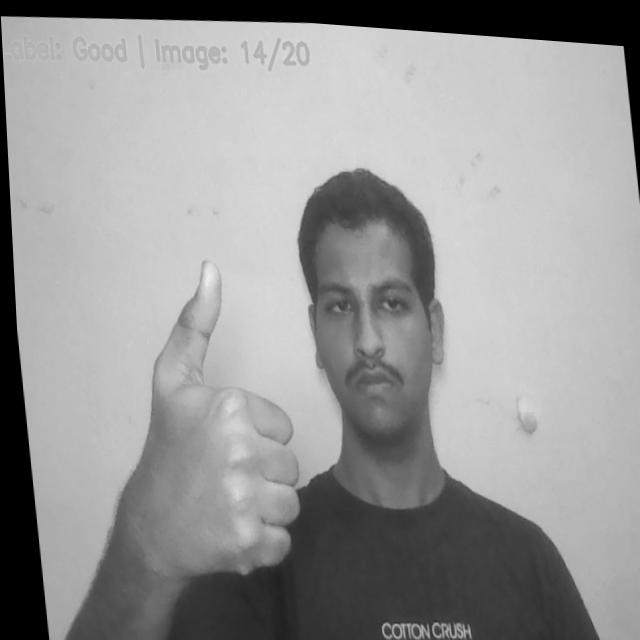Good: (87, 249, 307, 590)
